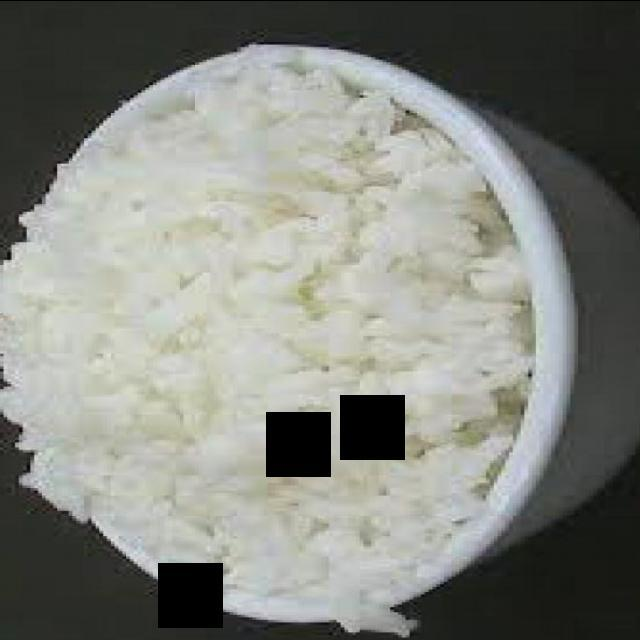rice: (0, 62, 535, 603)
